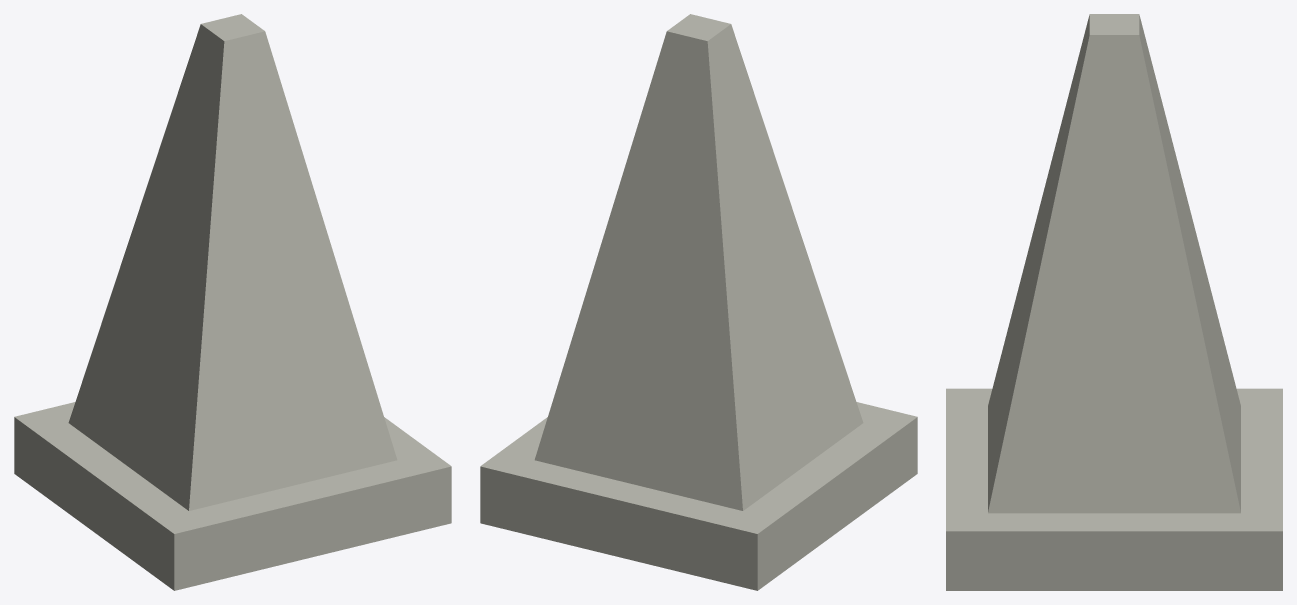
File: obelisk.fbx
3 views of the same model, side by side, from view 1: azimuth 30°, elevation 25°; view 2: azimuth 150°, elevation 25°; view 3: azimuth 270°, elevation 25° (orthographic). The views are drawn at different scales.
Parts seen in each view (by area): view 1: Cube.106; view 2: Cube.106; view 3: Cube.106.
Boxes of the visible parts, <box> form: Cube.106: <box>14,14,451,590</box>; Cube.106: <box>480,14,917,590</box>; Cube.106: <box>946,14,1282,590</box>.
Size of the model in its own units: 137 by 222 by 137.
